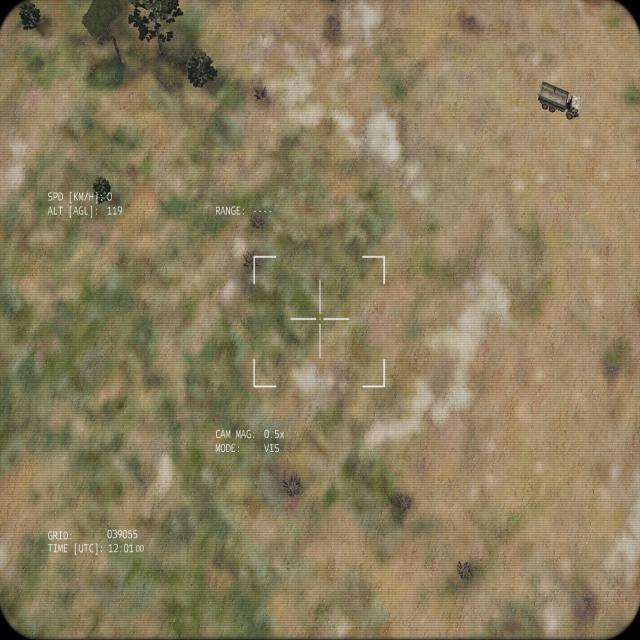truck: (537, 81, 582, 119)
